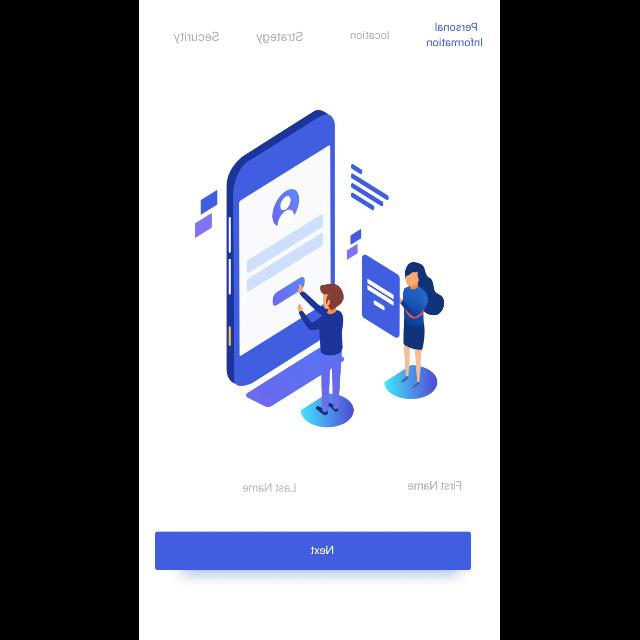image: (195, 110, 445, 428)
input: (320, 481, 472, 502), (155, 482, 307, 502)
text: (427, 23, 483, 47), (257, 32, 303, 44), (174, 32, 220, 44), (408, 480, 462, 490), (244, 482, 296, 492), (350, 30, 390, 40)
textbutton: (156, 532, 472, 570)
